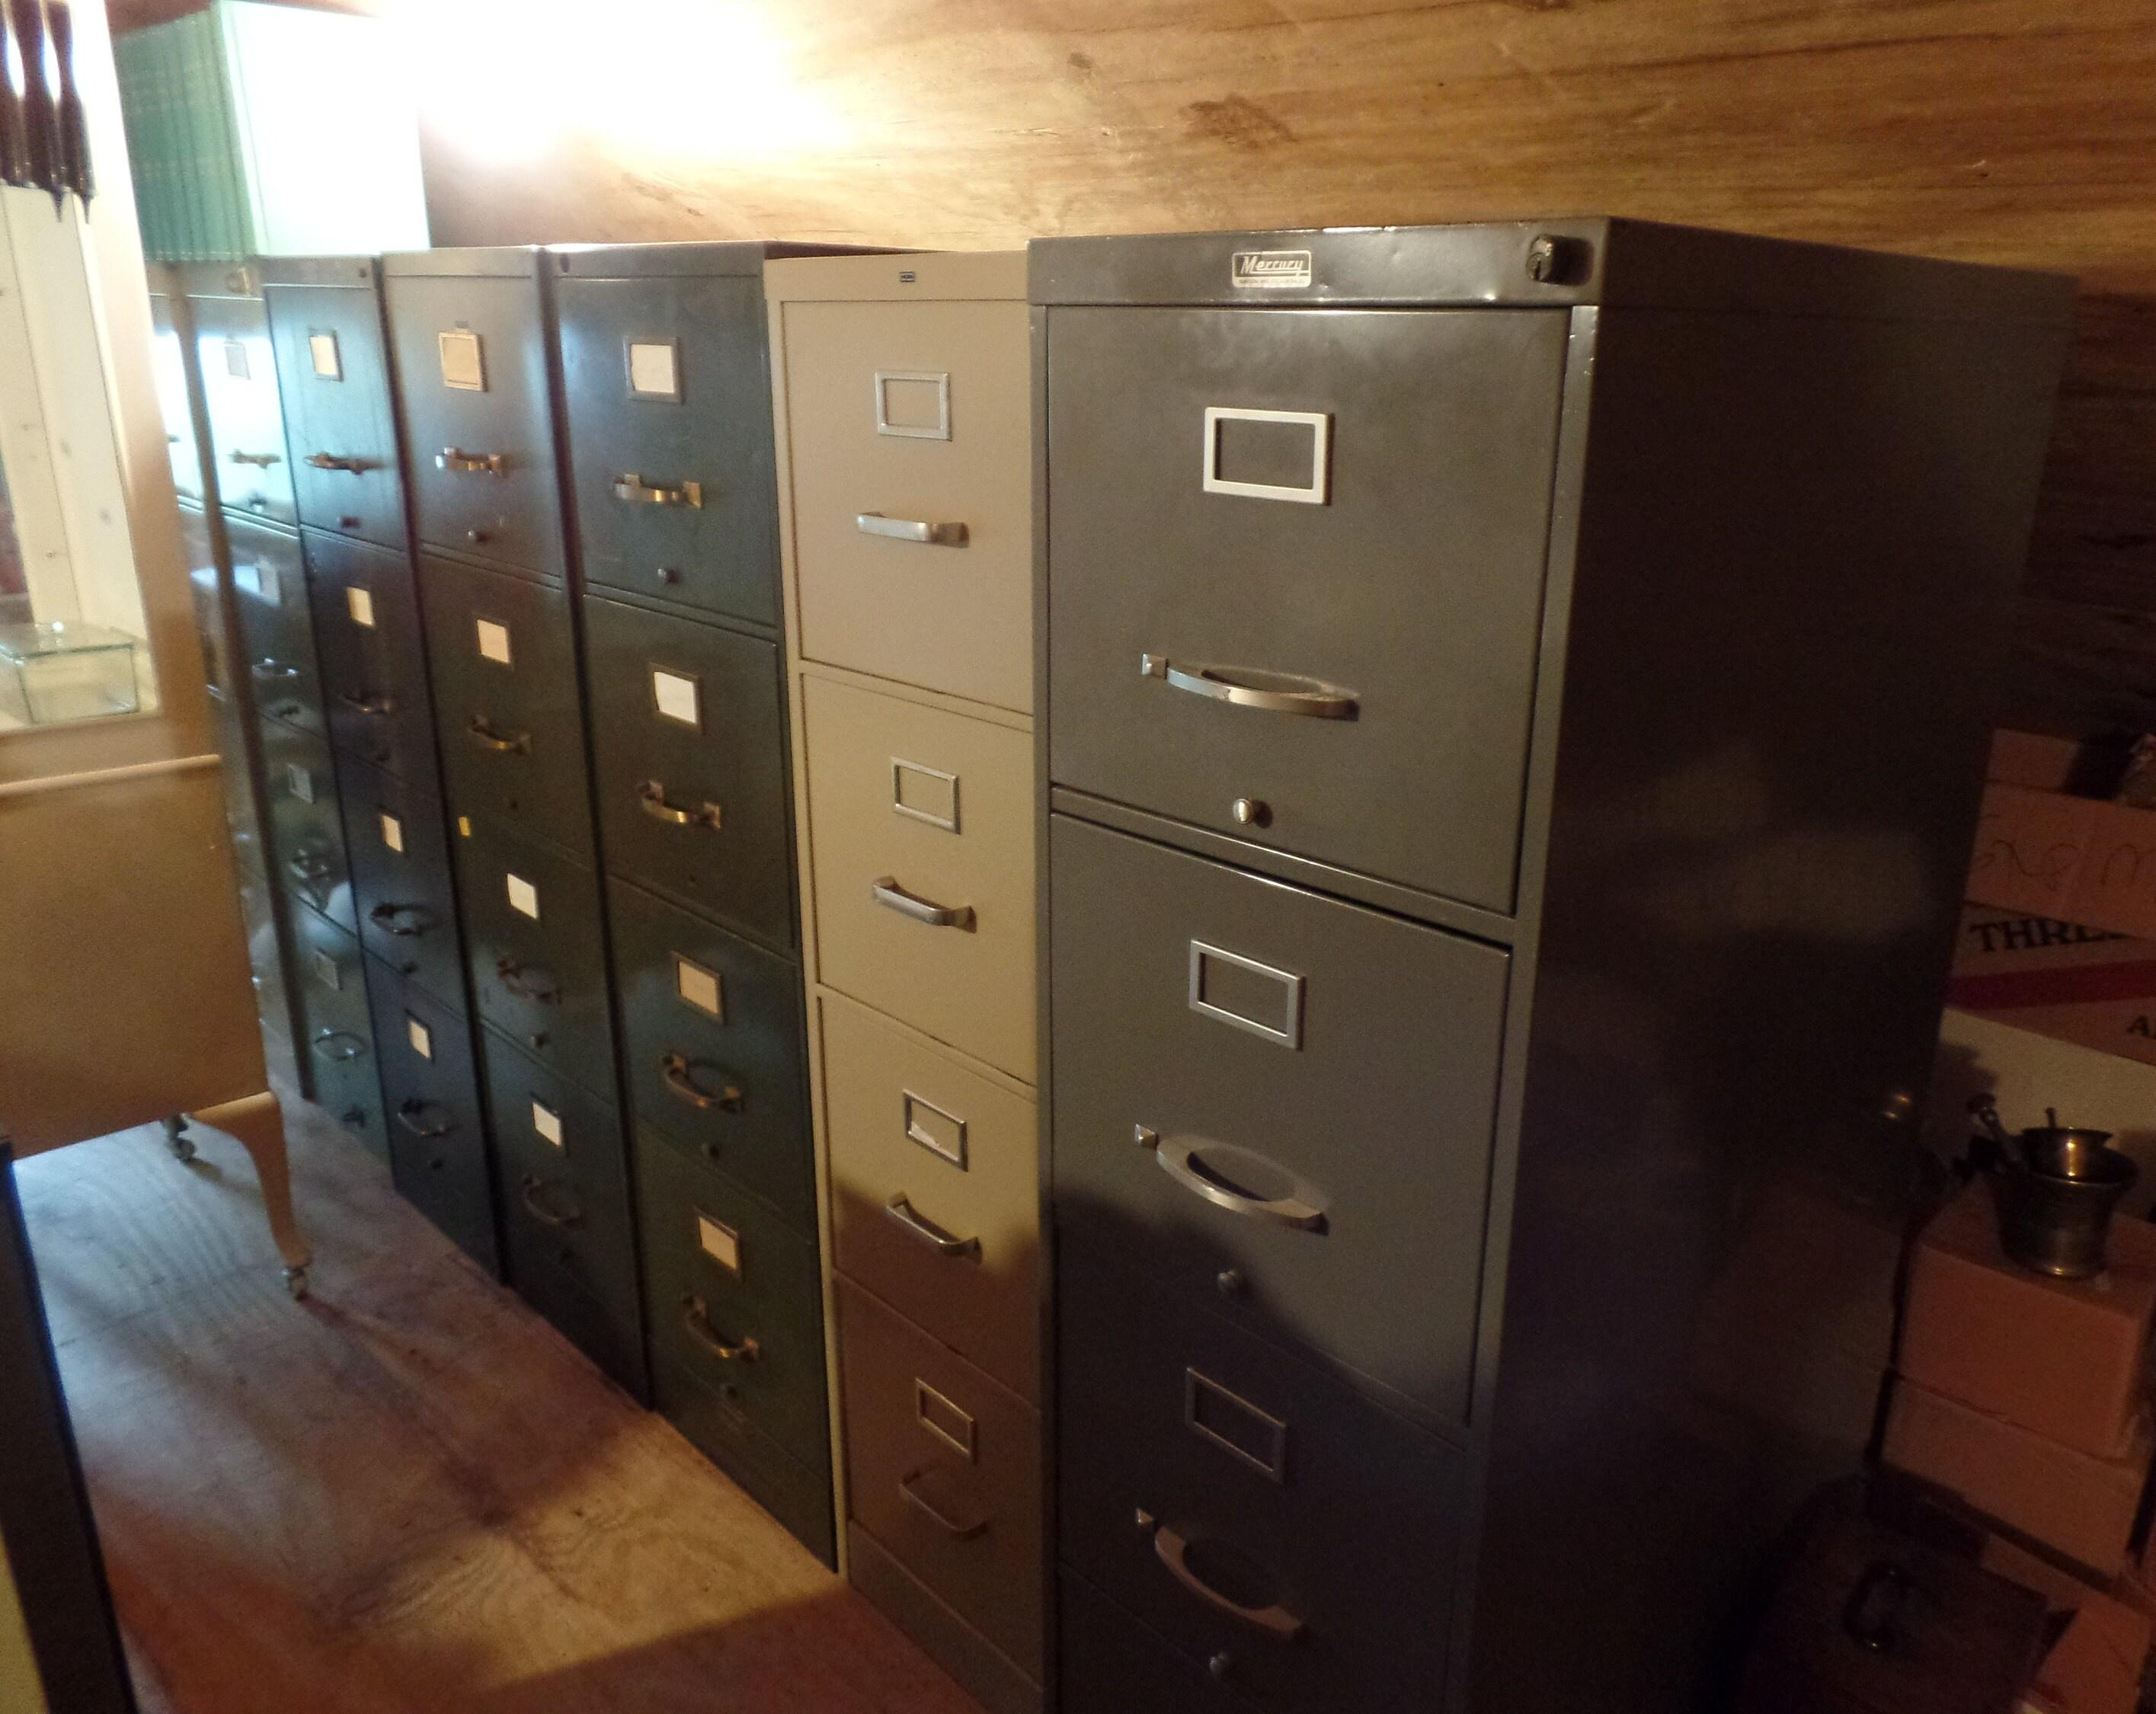Filing Cabinet: (1025, 217, 1610, 1714), (761, 247, 1031, 1714), (542, 248, 838, 1578), (374, 247, 651, 1413), (254, 255, 504, 1289), (170, 259, 390, 1168)
